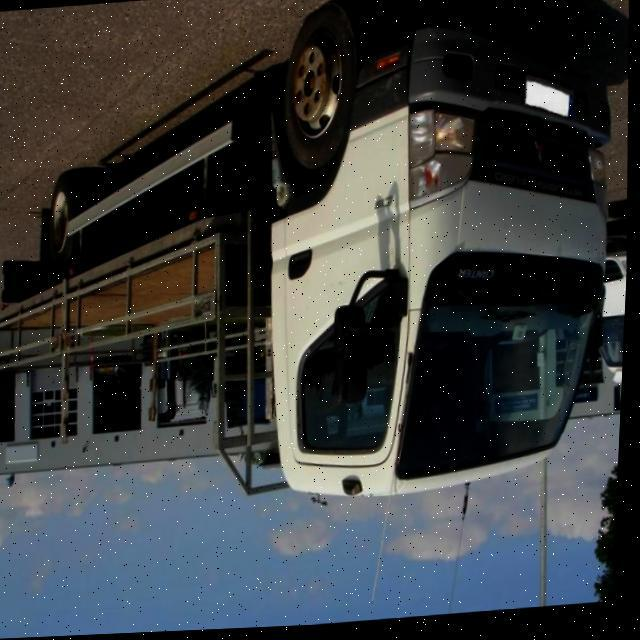truck: (0, 0, 629, 525)
